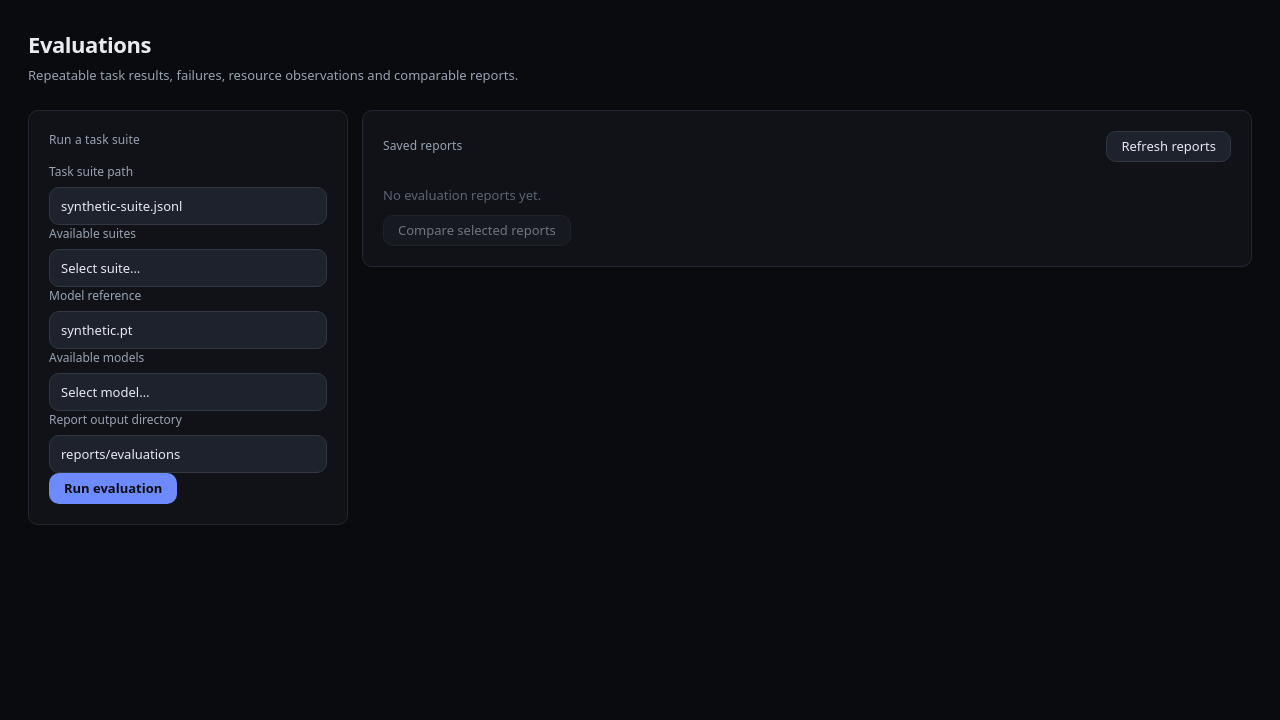
Test: evaluation and artifact service contracts › starts a real suite job and loads failures and comparisons from the API
Earlier steps of the test are not shown.
Click the button "Run evaluation": (113, 489) [49,473,177,504]
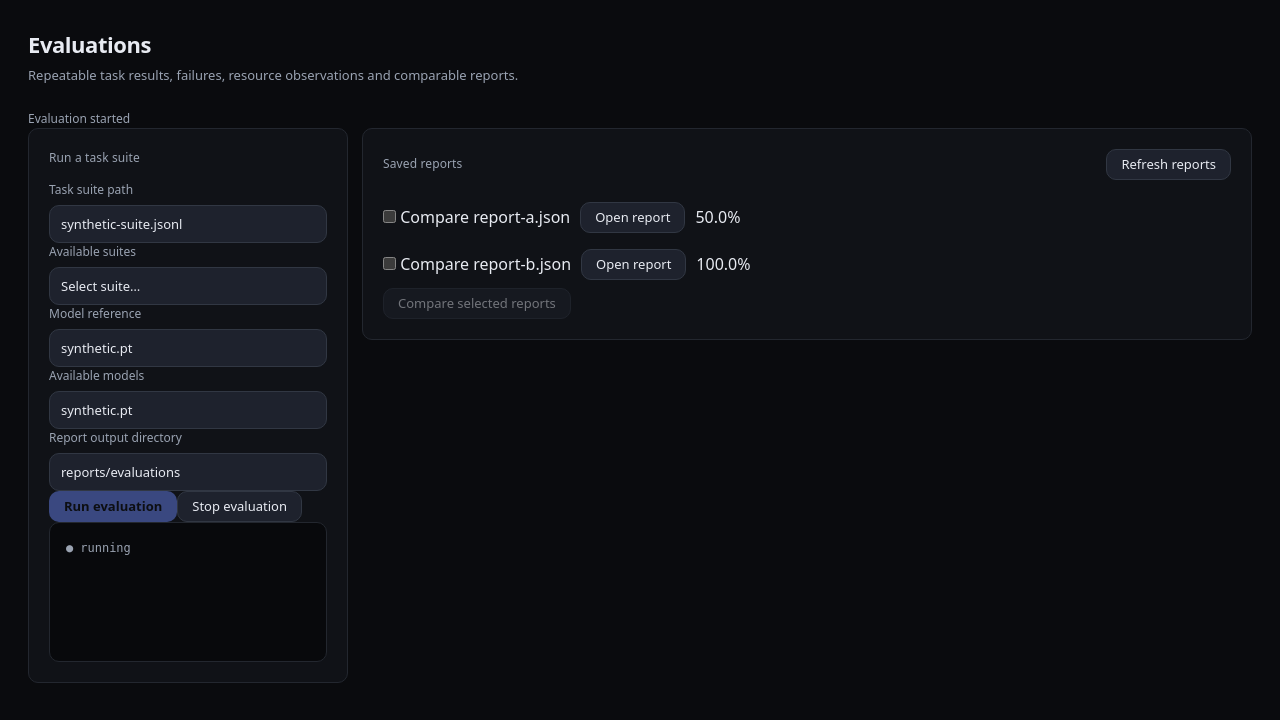
Click the button "Open report" next to "report-a.json": (633, 217) [580,202,686,232]
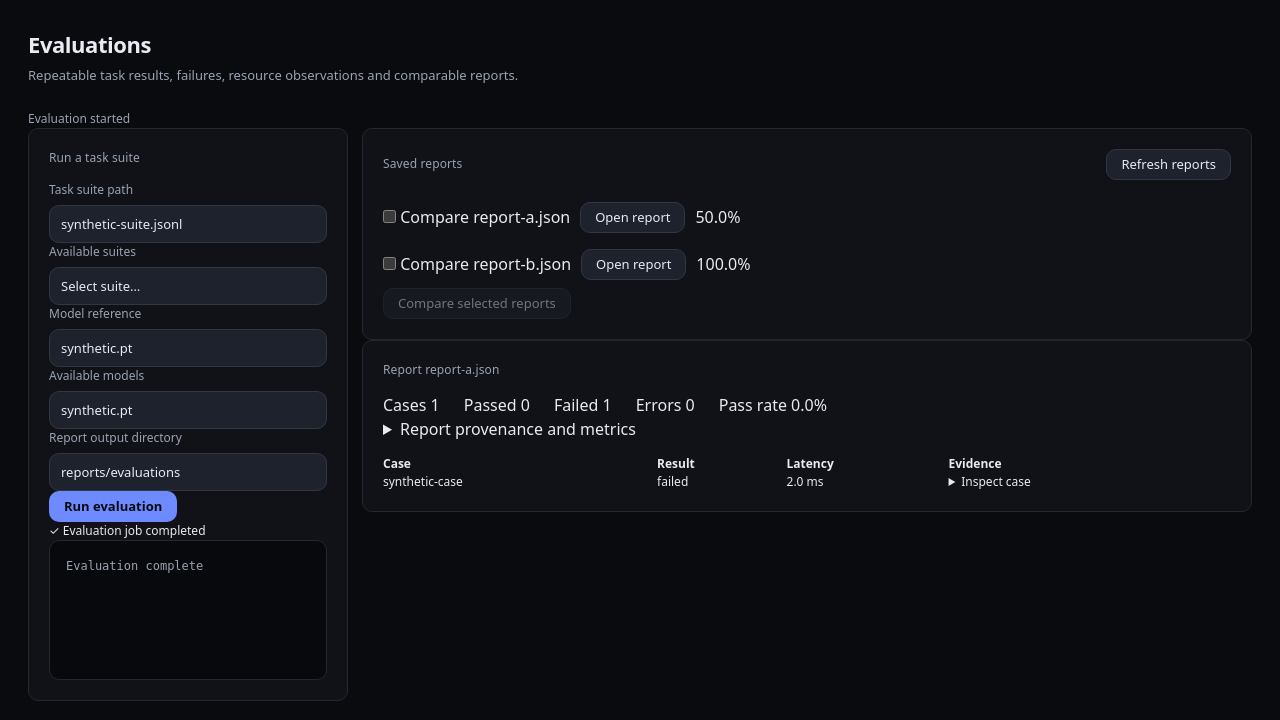
Expected: the text "synthetic-case" is shown, [383,472,657,490]
Click the heading "Inspect case": (996, 481) [961,472,1031,490]
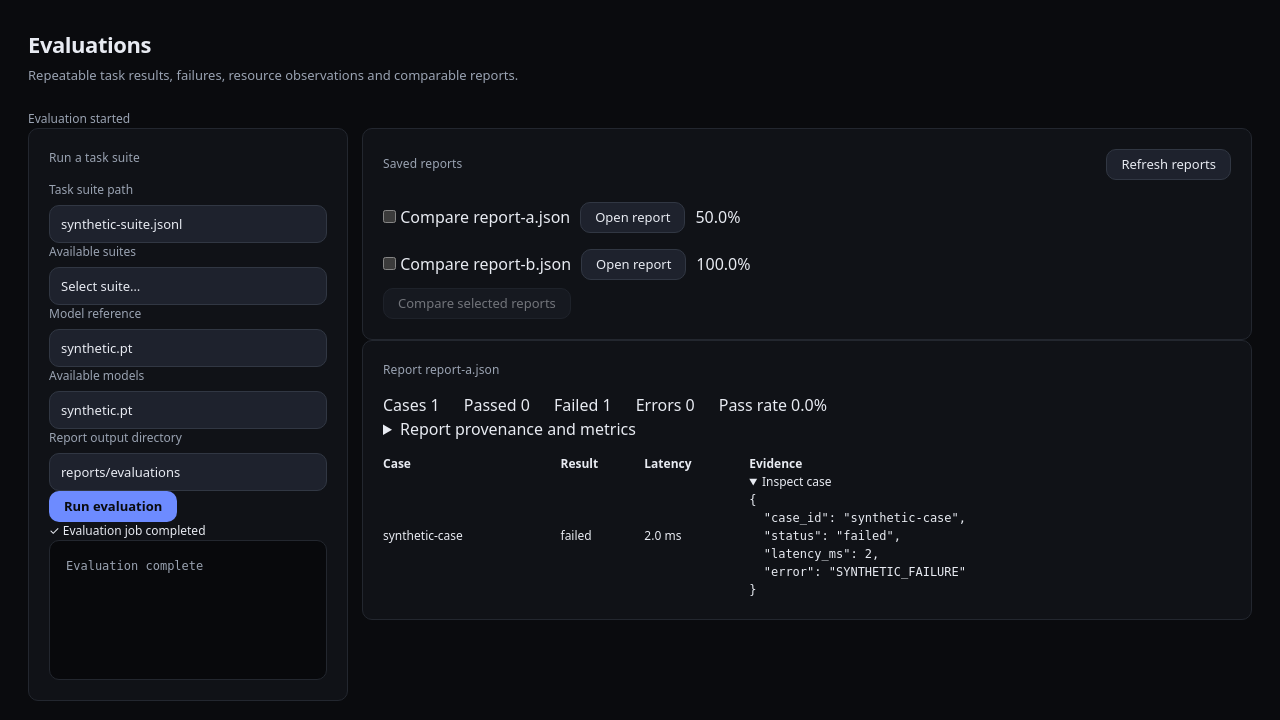
Expected: the text "SYNTHETIC_FAILURE" is shown, [749,492,966,596]
Click the checkbox labelled "Compare report-a.json": (390, 216) [383,210,396,223]
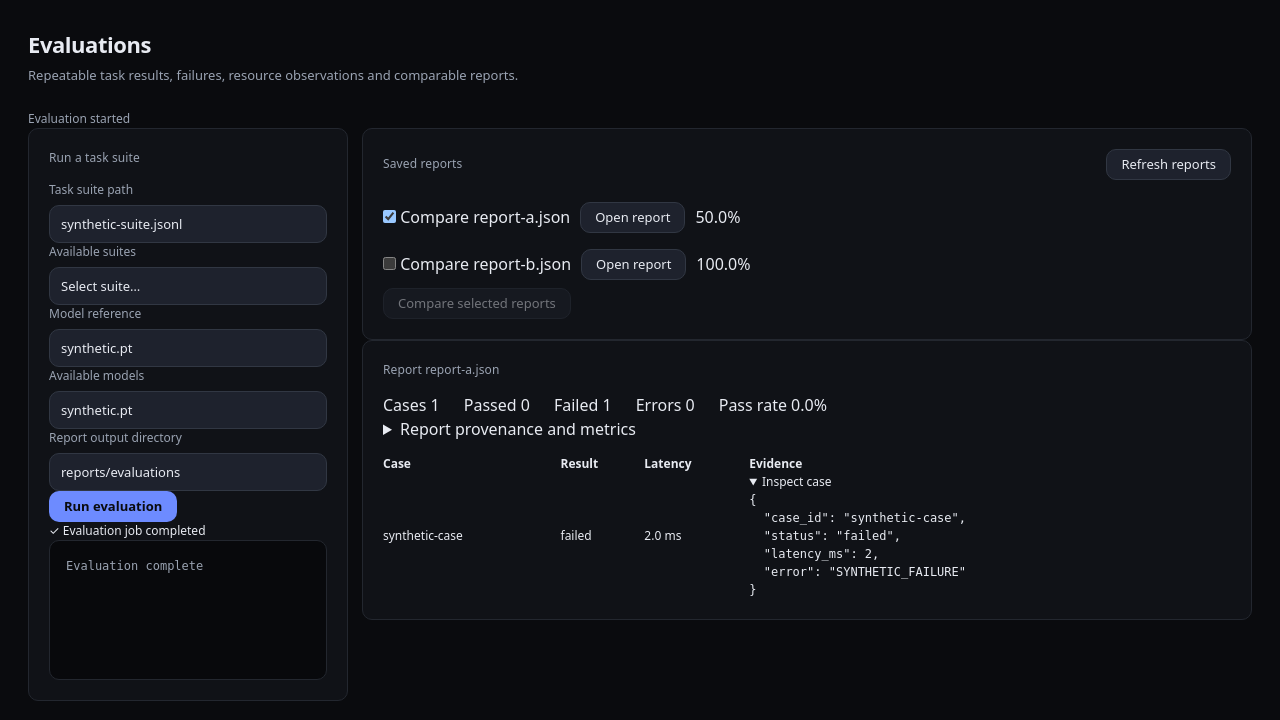
Click the checkbox labelled "Compare report-b.json": (390, 264) [383,257,396,270]
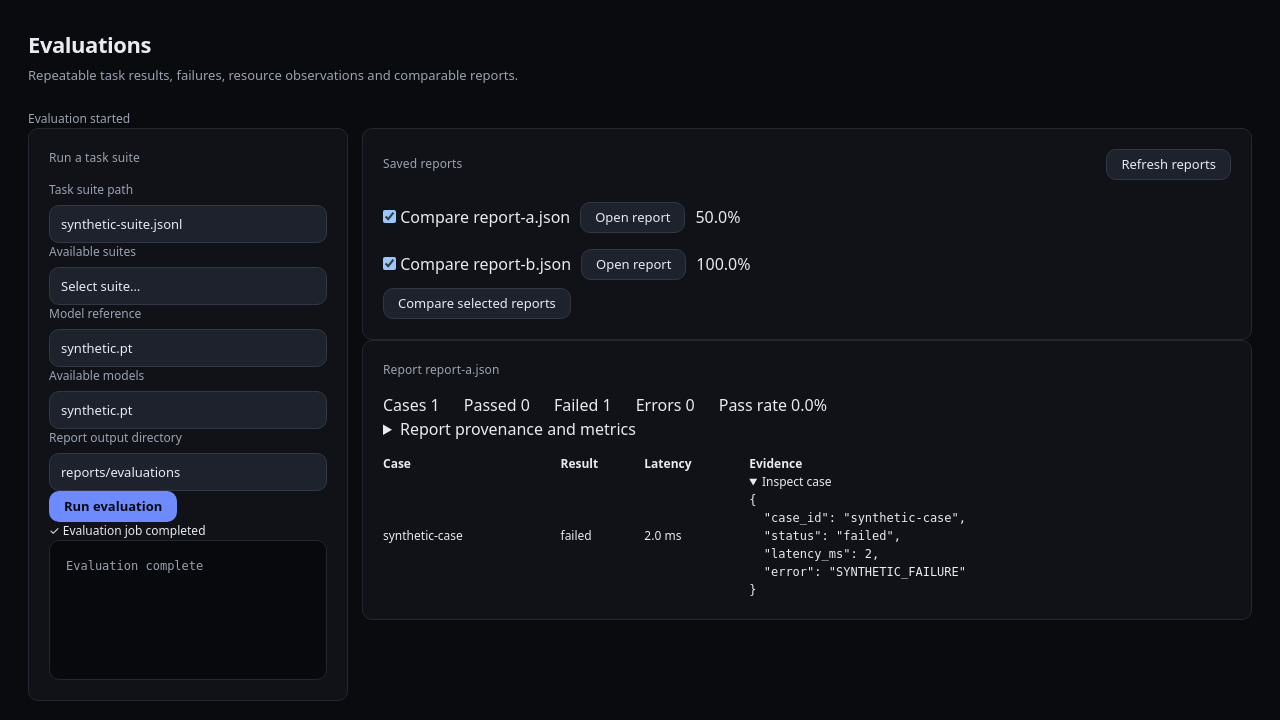
Click the button "Compare selected reports": (477, 303) [383,288,571,318]
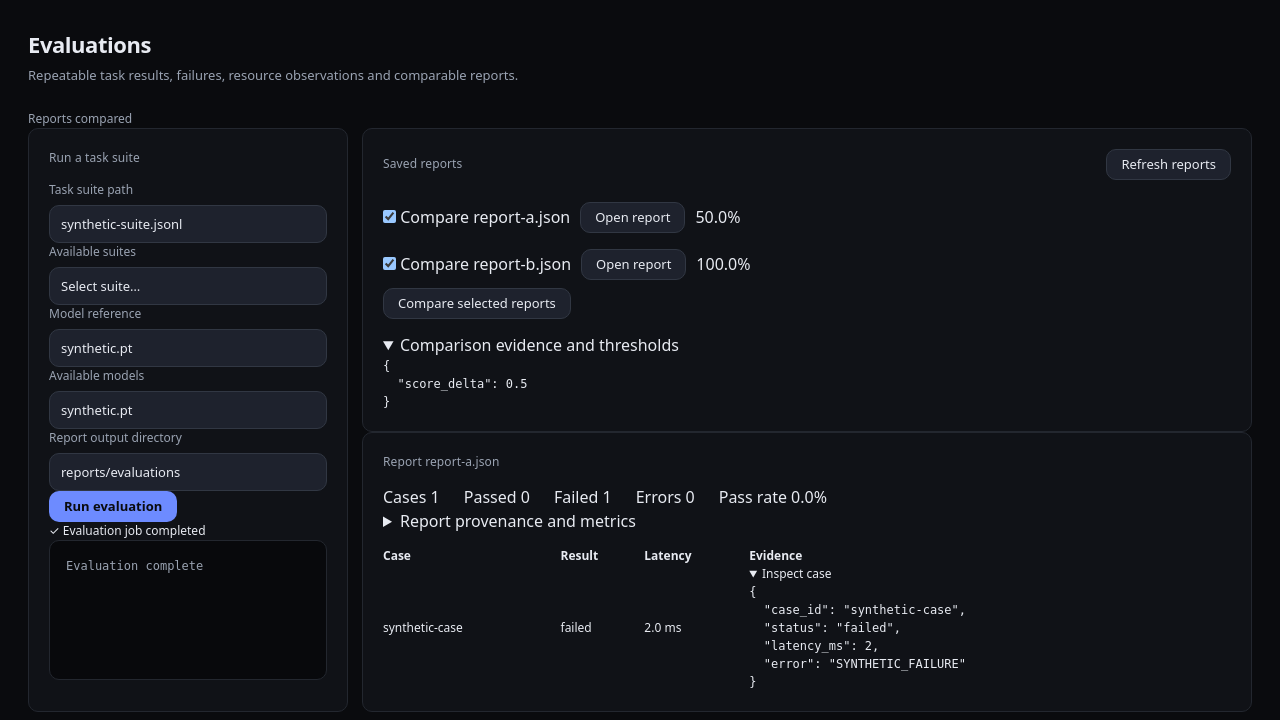
Expected: the text "{ \"score_delta\": 0.5 }" is shown, [383,358,528,408]
